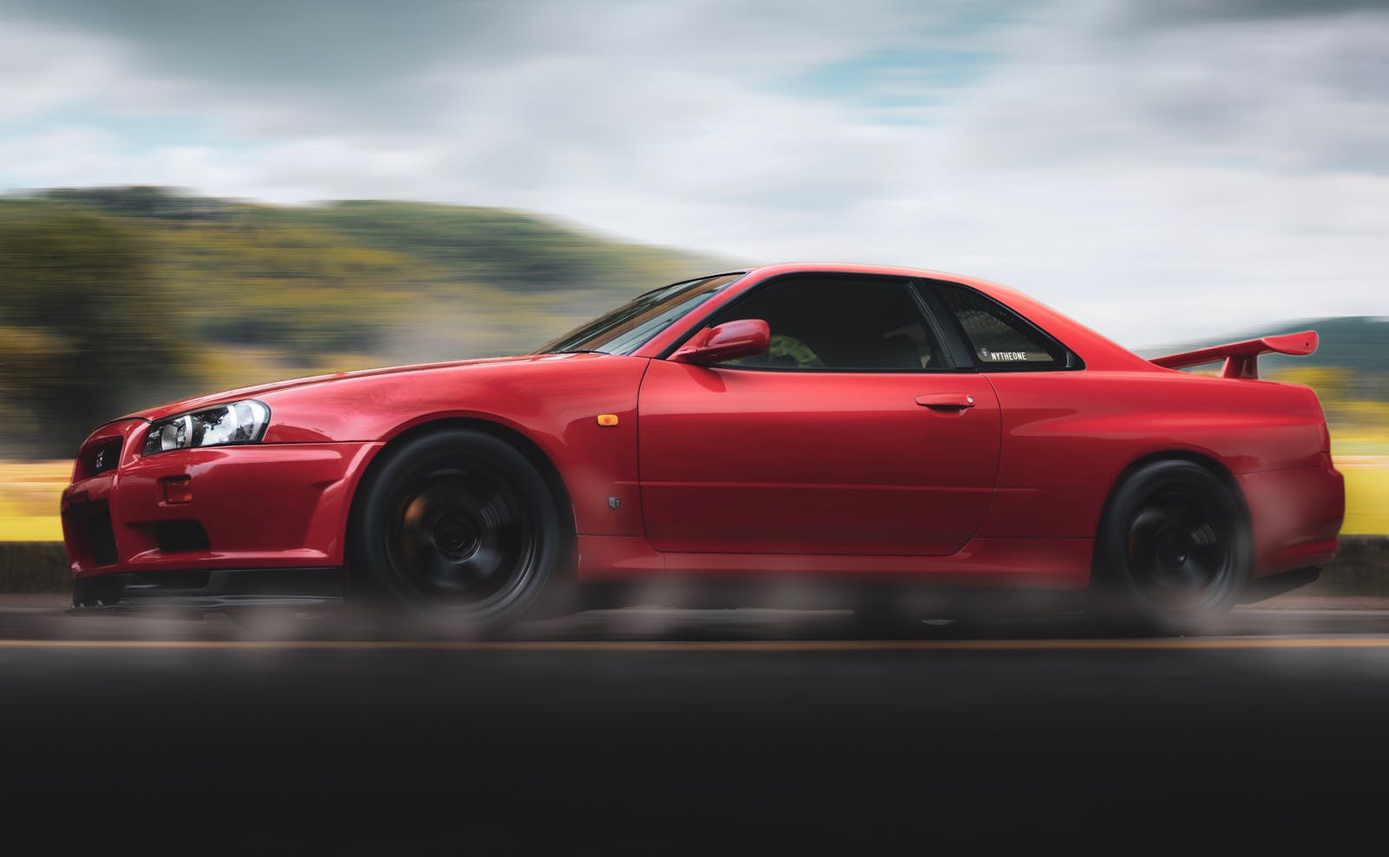other: (56, 256, 1350, 636)
